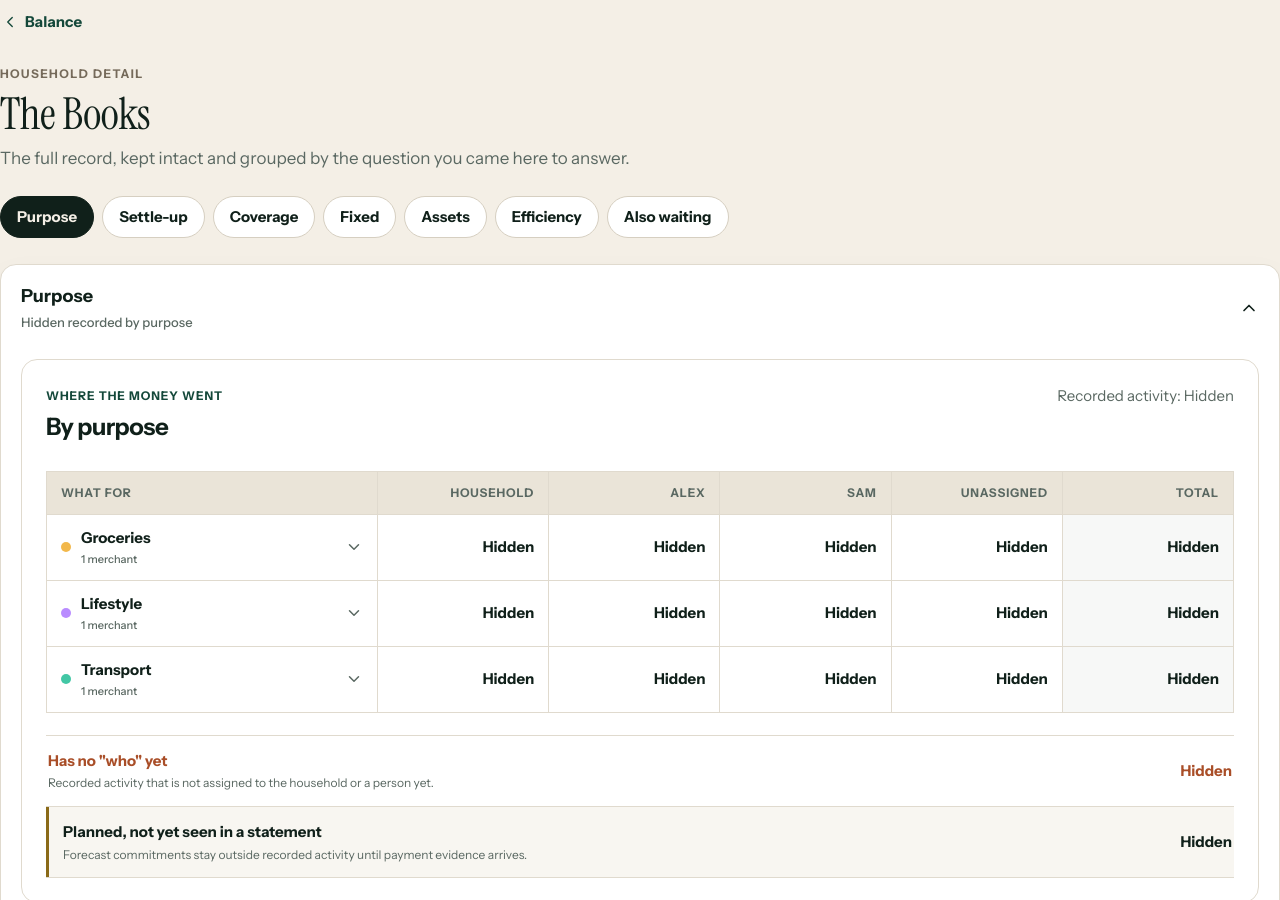
it: HomeView spending attribution › hides empty optional sections but keeps an active efficiency plan reachable
The width and height of the screenshot is (1280, 900).
Click the button "Efficiency": (547, 217) top-left (495, 196), bottom-right (599, 238)
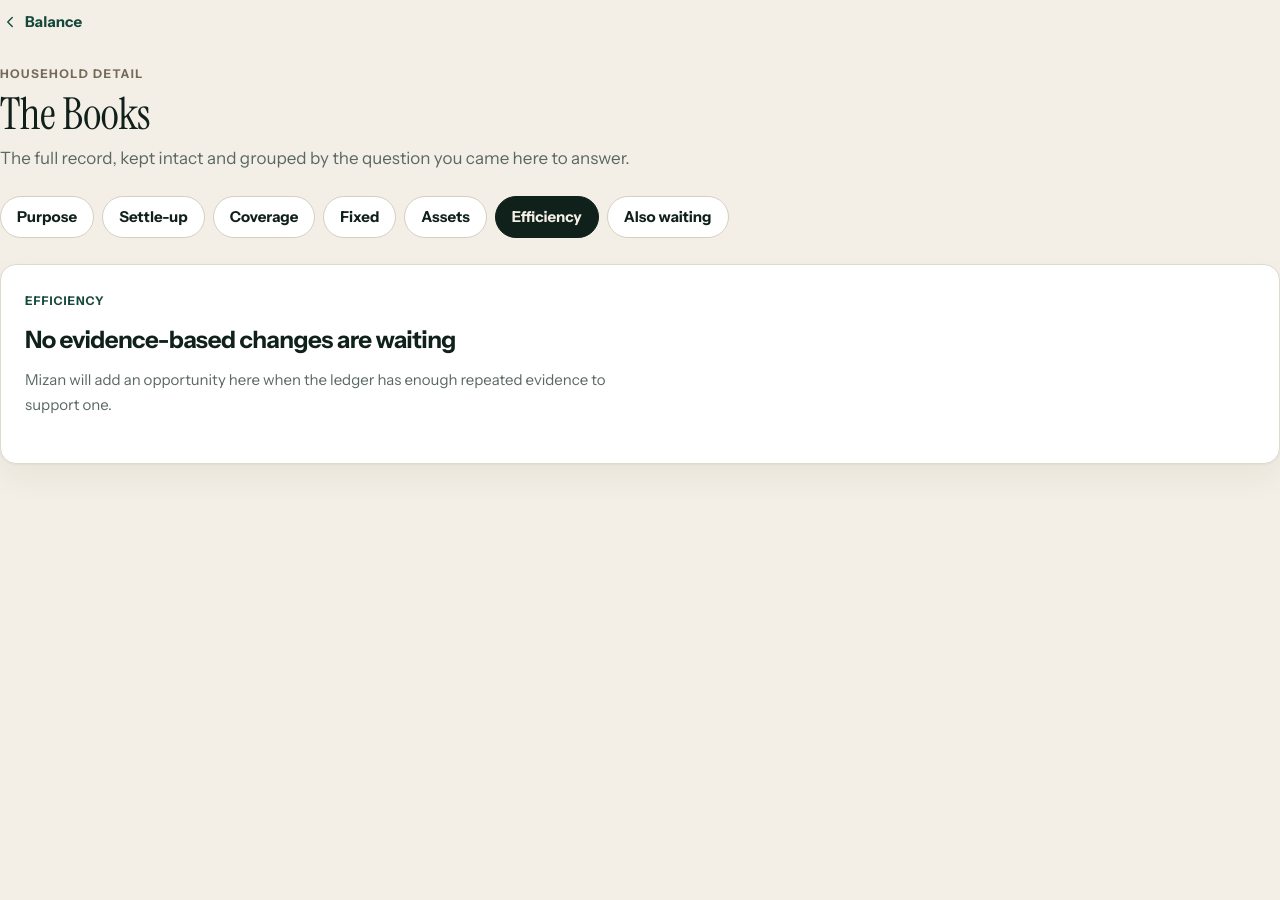
Check: the text "Efficiency opportunities" is not shown
Click the button "Assets": (446, 217) top-left (404, 196), bottom-right (487, 238)
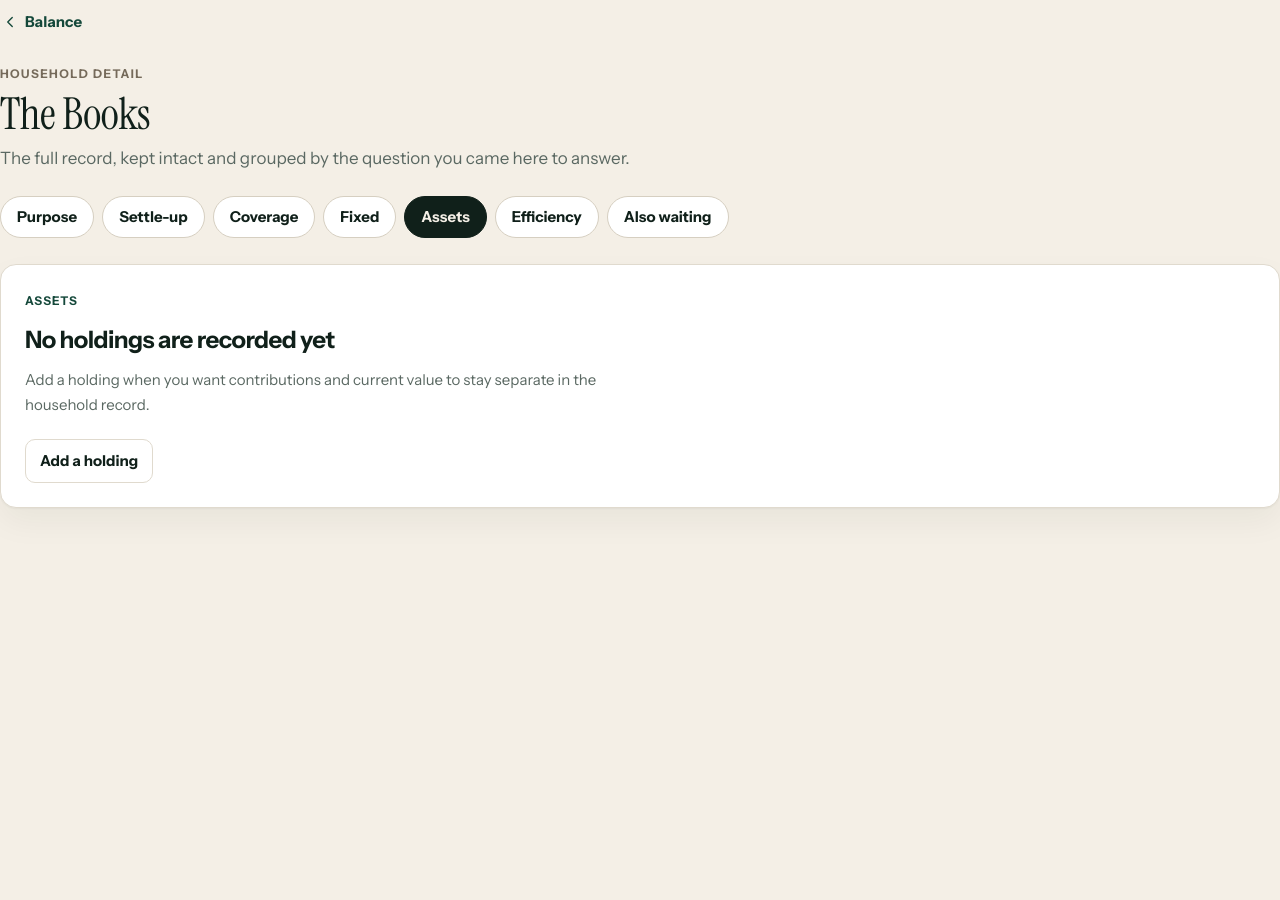
Check: the text "No holdings are recorded yet" is shown, box top-left (25, 325), bottom-right (335, 354)
Check: the text "Add a holding" is shown, box top-left (25, 370), bottom-right (596, 414)
Click the button "Efficiency": (547, 217) top-left (495, 196), bottom-right (599, 238)
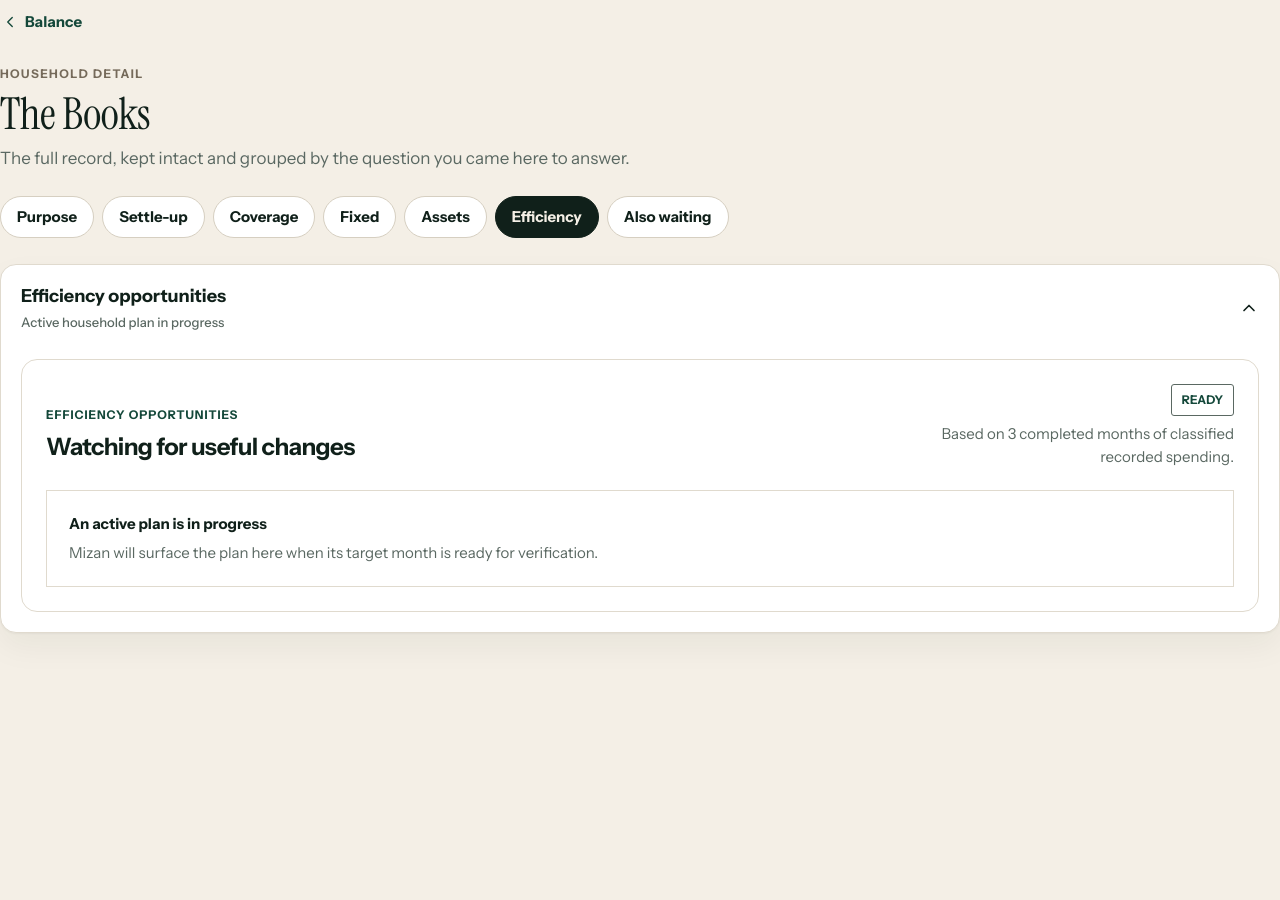
Check: the button "Efficiency opportunities Active household plan in progress" is shown, box top-left (1, 265), bottom-right (1279, 351)
Check: the text "Active household plan in progress" is shown, box top-left (21, 313), bottom-right (226, 333)
Check: the text "An active plan is in progress" is shown, box top-left (69, 514), bottom-right (267, 533)
